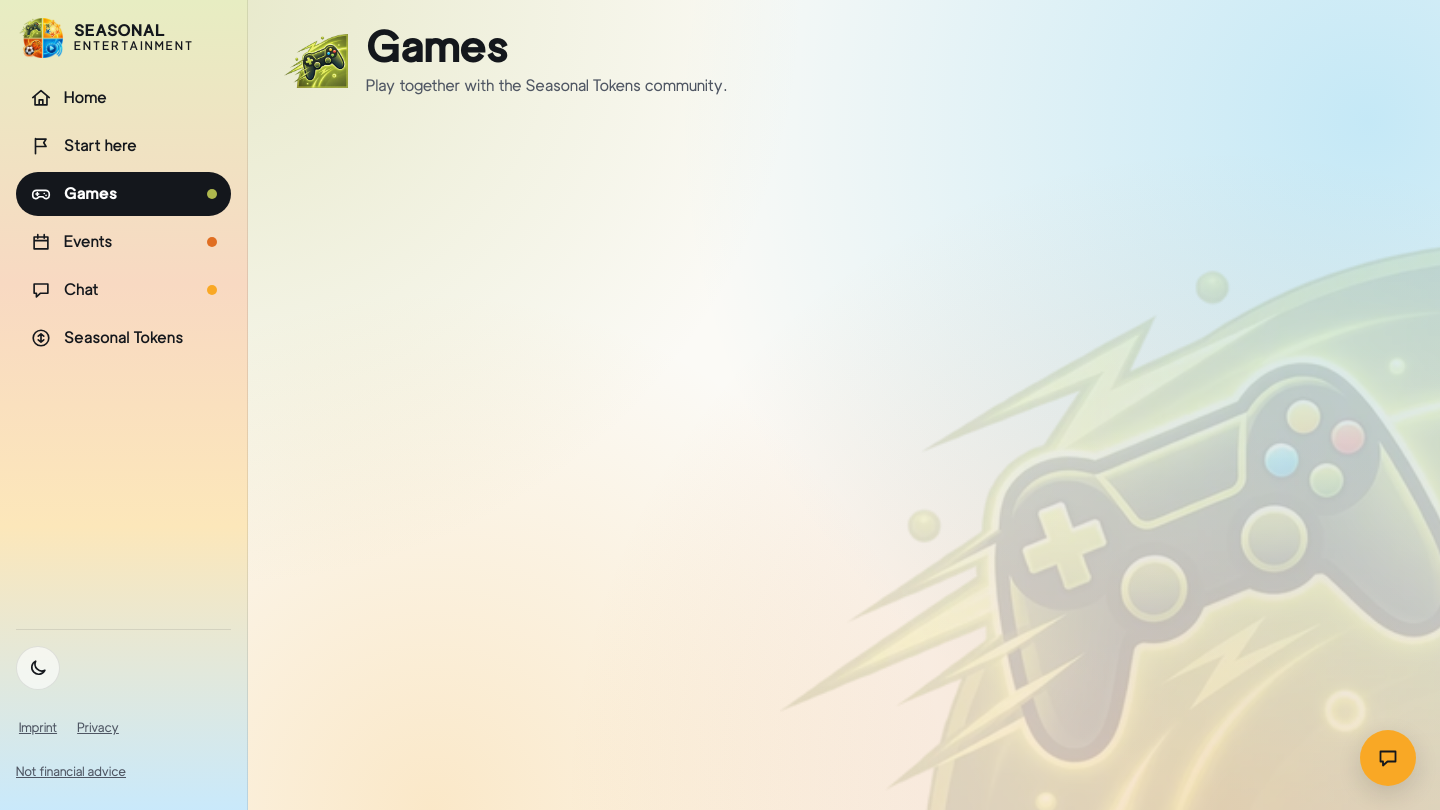
lists a member's favourite rooms first, in their own group
Click the button named "Chat" at (1388, 758), box [1360,730,1416,786]
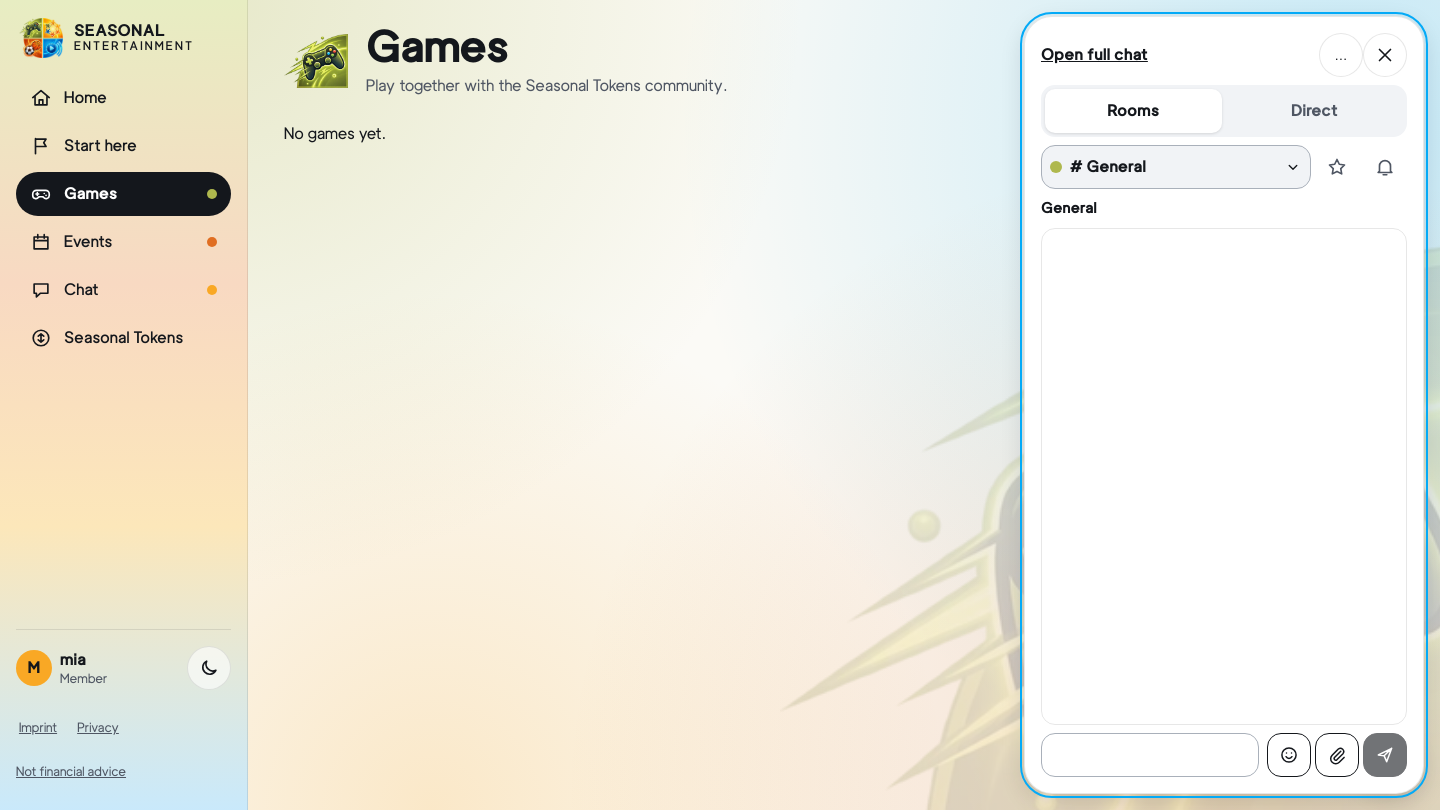
Press ArrowDown in the button with aria-label "Room: General", box [1041,145,1311,189]
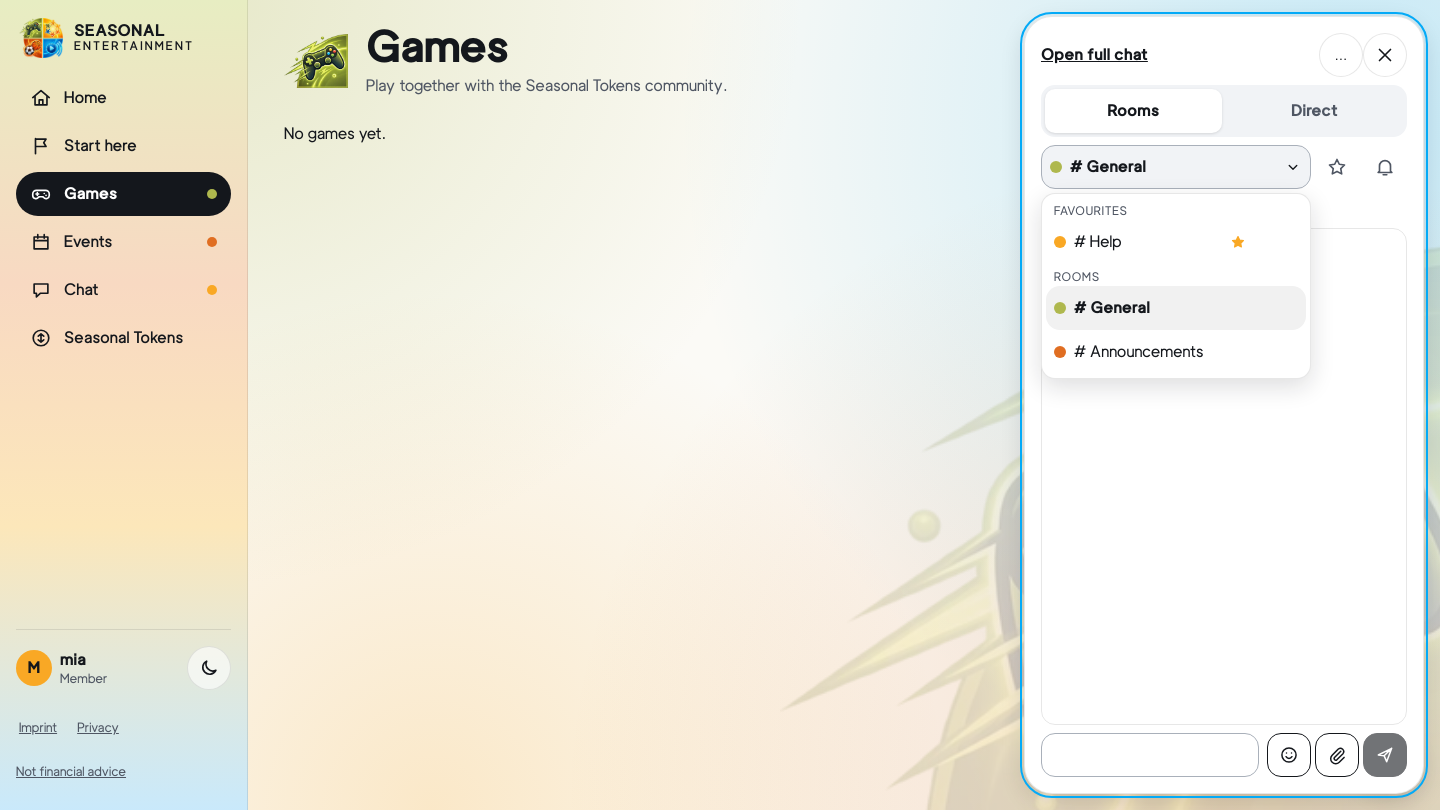
Expected: the options read "# Help", in this order, [1054,232,1246,251]
Press ArrowUp in the list "Rooms", box [1041,193,1311,379]
Press Enter in the list "Rooms", box [1041,193,1311,379]
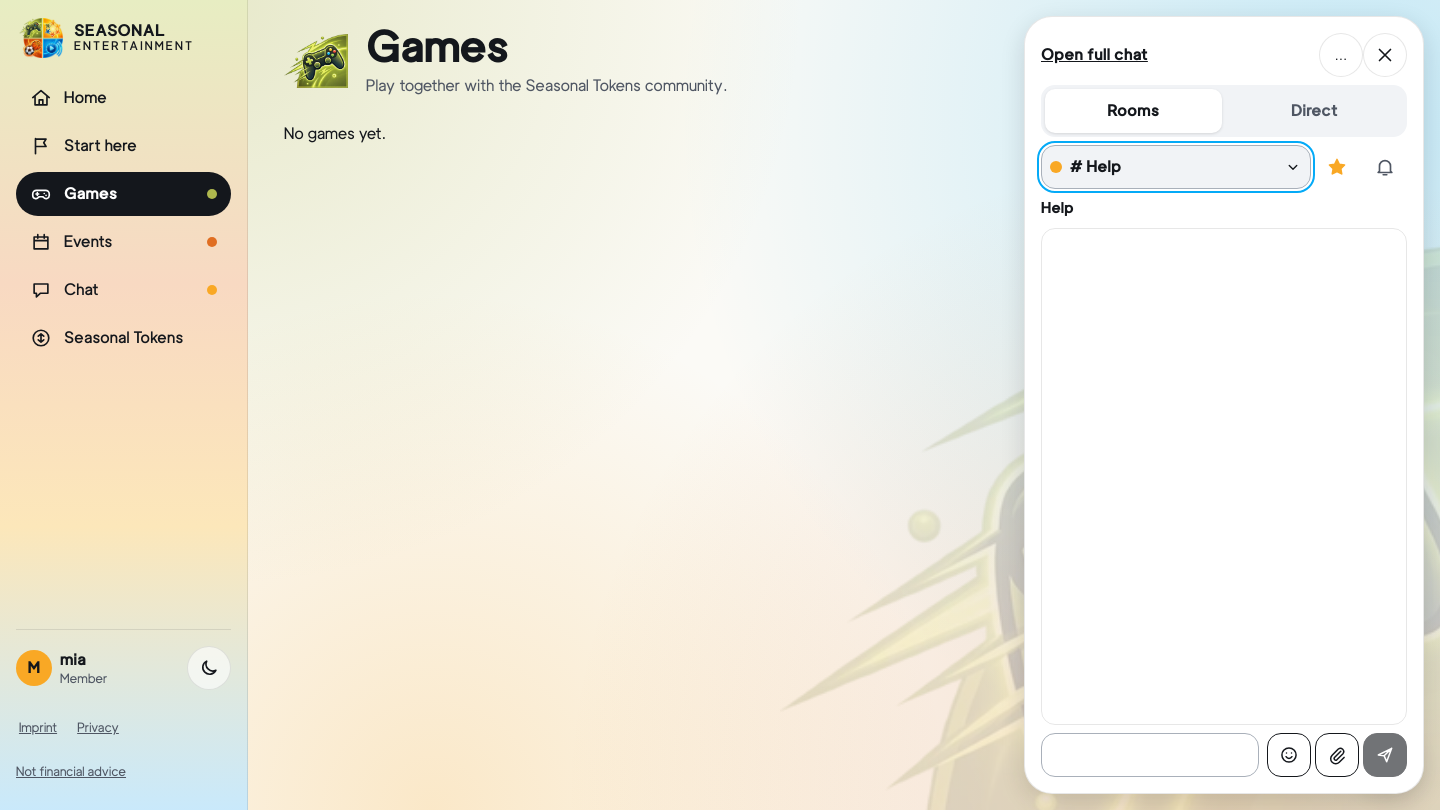
Expected: the button with aria-label "Room: Help" is shown, [1041,145,1311,189]
